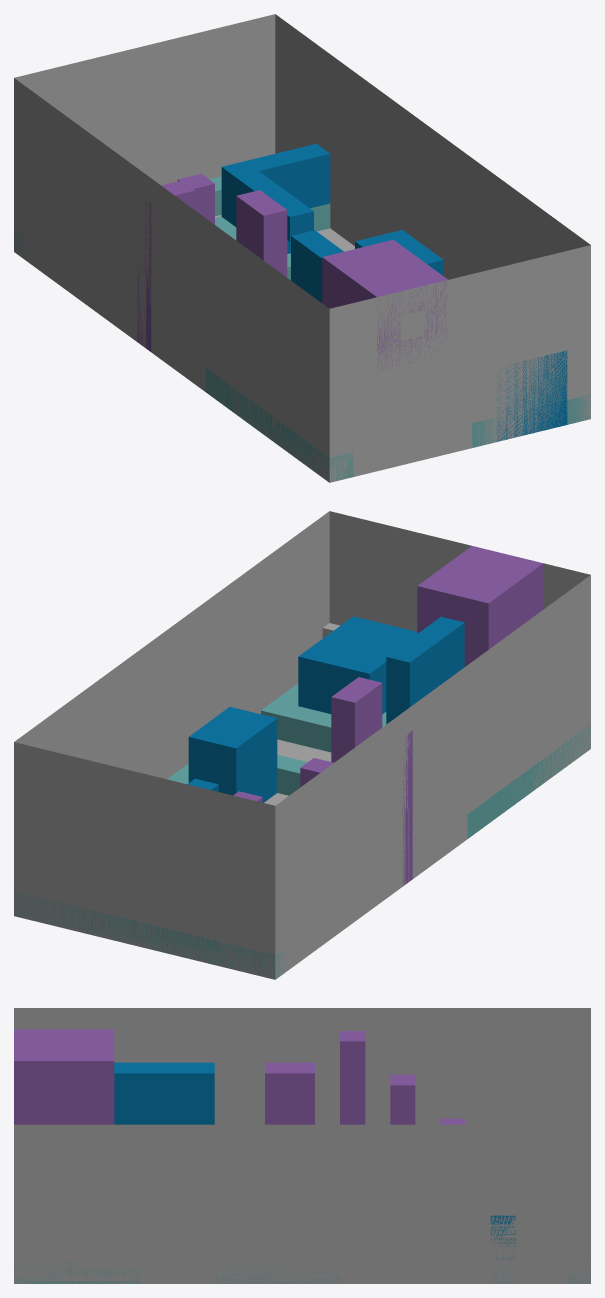
Rendered from Greybox_2.1.fbx.
3 renders of one model, top to bottom at view 1: azimuth 30°, elevation 25°; view 2: azimuth 150°, elevation 25°; view 3: azimuth 270°, elevation 25°, orthographic. The views are drawn at different scales.
Parts seen in each view (by area): view 1: pCube74, polySurface31; view 2: pCube74, polySurface31; view 3: pCube74, polySurface31.
Boxes of the visible parts, <box> form: pCube74: <box>14,14,590,482</box>; polySurface31: <box>14,143,590,482</box>; pCube74: <box>14,511,590,979</box>; polySurface31: <box>14,546,590,979</box>; pCube74: <box>14,1008,590,1283</box>; polySurface31: <box>14,1029,590,1283</box>.
Bounding box in the file's own units: 22 × 14 × 46.
